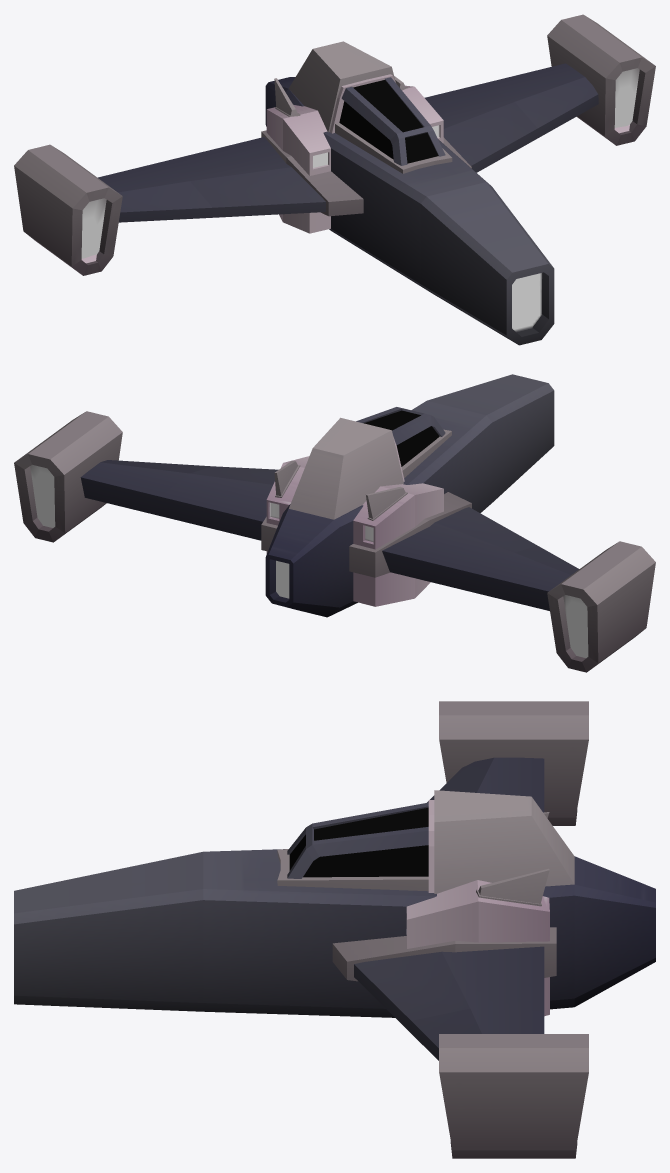
The model's file is vaisseau_V3.fbx.
3 views of the same model, one above another, from view 1: azimuth 30°, elevation 25°; view 2: azimuth 150°, elevation 25°; view 3: azimuth 270°, elevation 25° (orthographic). The views are drawn at different scales.
Visible parts, largest first — view 1: Plane; view 2: Plane; view 3: Plane.
Boxes of the visible parts, bbox=[...] form: Plane: bbox=[14, 14, 655, 345]; Plane: bbox=[14, 374, 655, 672]; Plane: bbox=[14, 701, 655, 1158].
Size of the model in its own units: 1230 by 916 by 301.
Materials: 1 (1 with a texture image).
